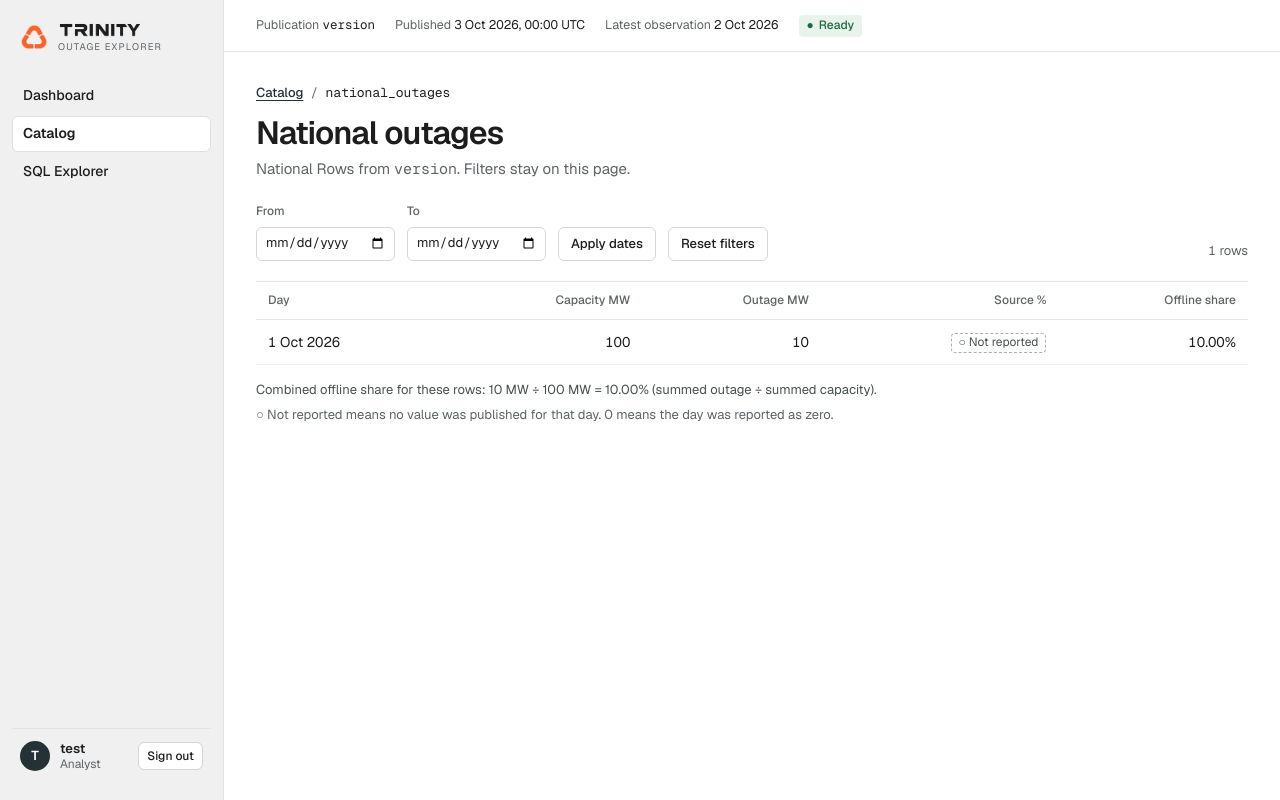
catalog dates wait for Apply and Reset clears the draft
Expected: the text "Combined offline share for these rows: 10 MW ÷ 100 MW = 10.00% (summed outage ÷ summed capacity)." is shown, [256,381,877,398]
Type "2026-01-01" into the date field labelled "From" at (326, 244), box [256,227,395,261]
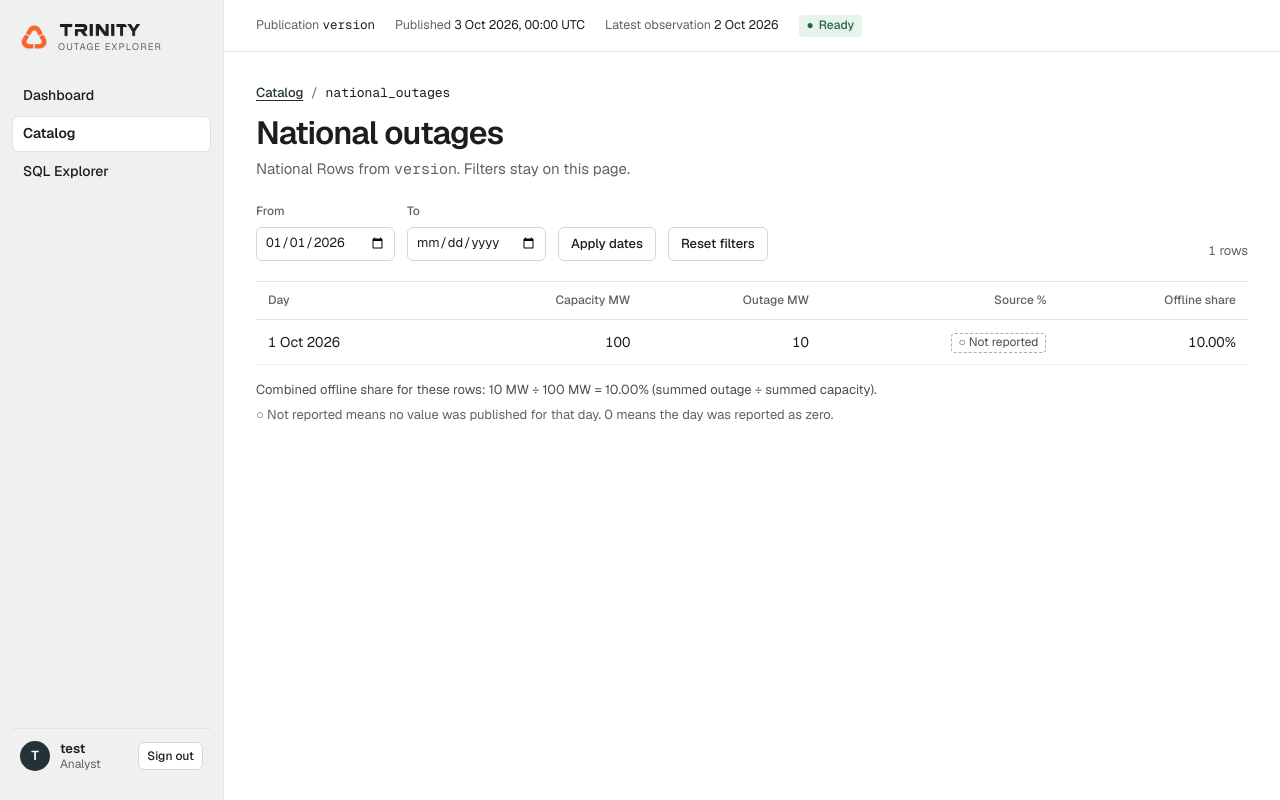
Type "2026-01-31" into the date field labelled "To" at (476, 244), box [407,227,546,261]
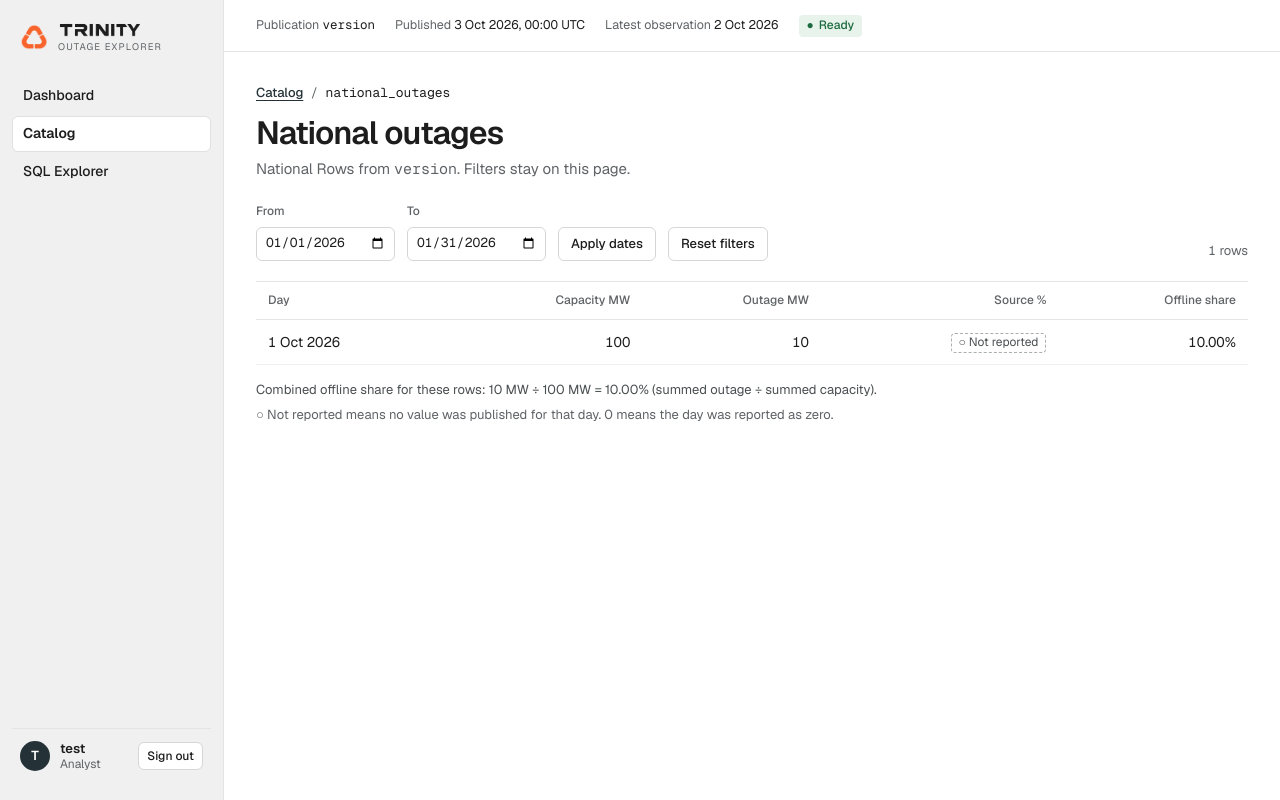
Click the button "Apply dates" at (607, 244), box [558,227,656,261]
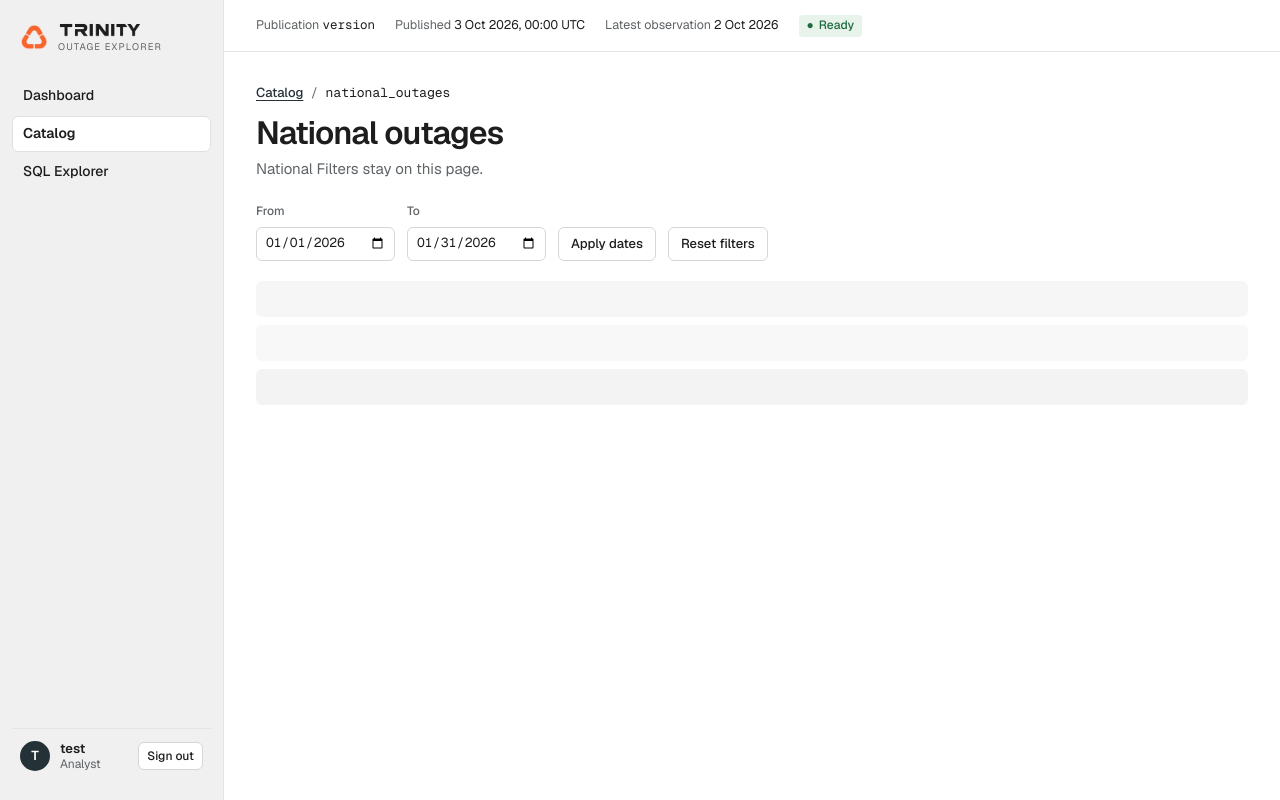
Click the button "Reset filters" at (718, 244), box [668,227,768,261]
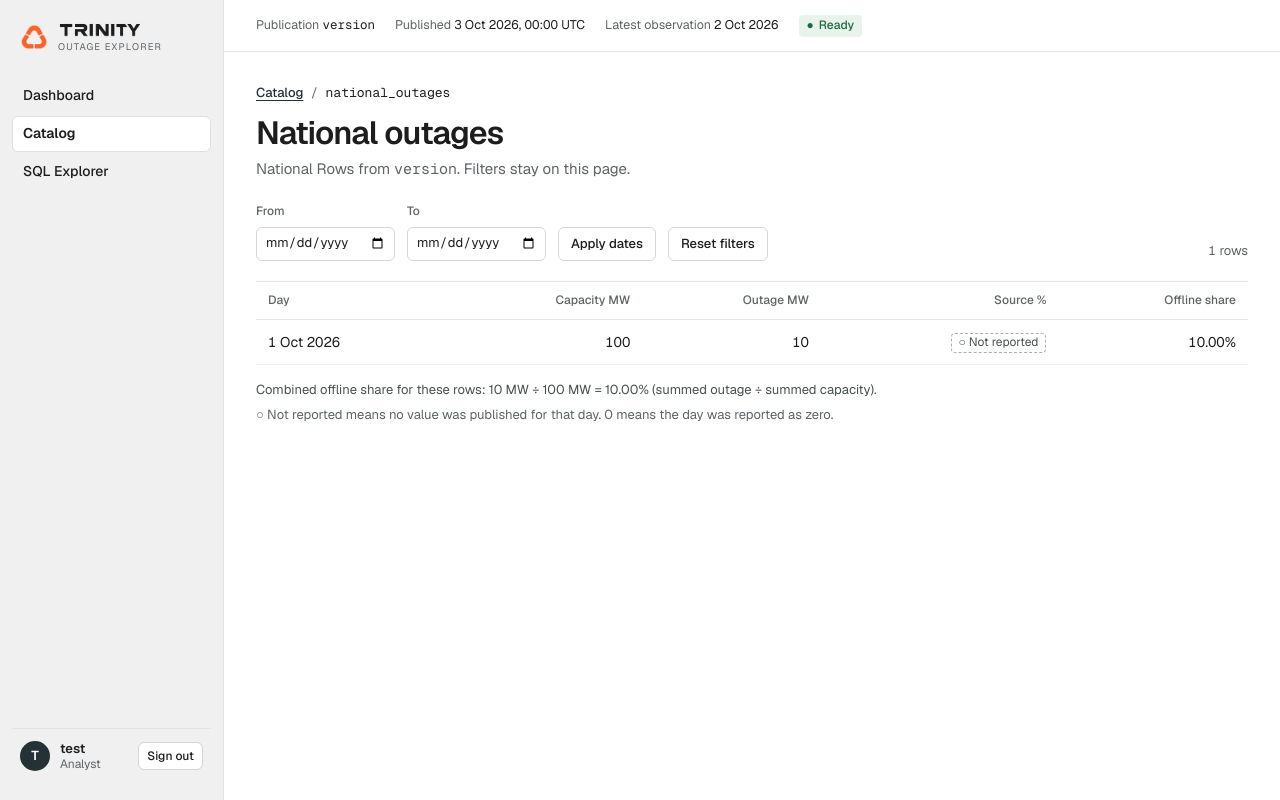
Result: the date field labelled "From" is empty at [256,227,395,261]
Result: the date field labelled "To" is empty at [407,227,546,261]
